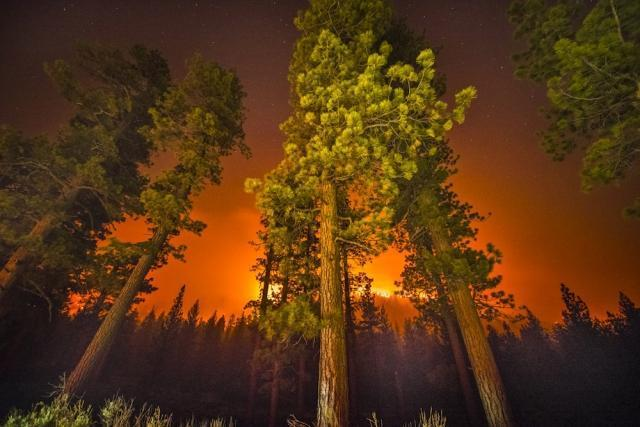fire: (349, 283, 439, 304), (263, 278, 284, 302)
